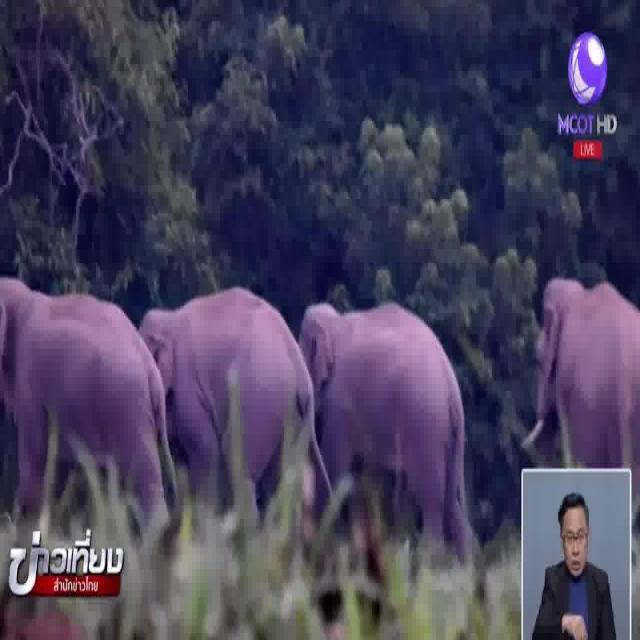Elephant: (302, 300, 468, 520), (1, 273, 163, 483), (151, 283, 311, 485), (527, 264, 640, 467)
